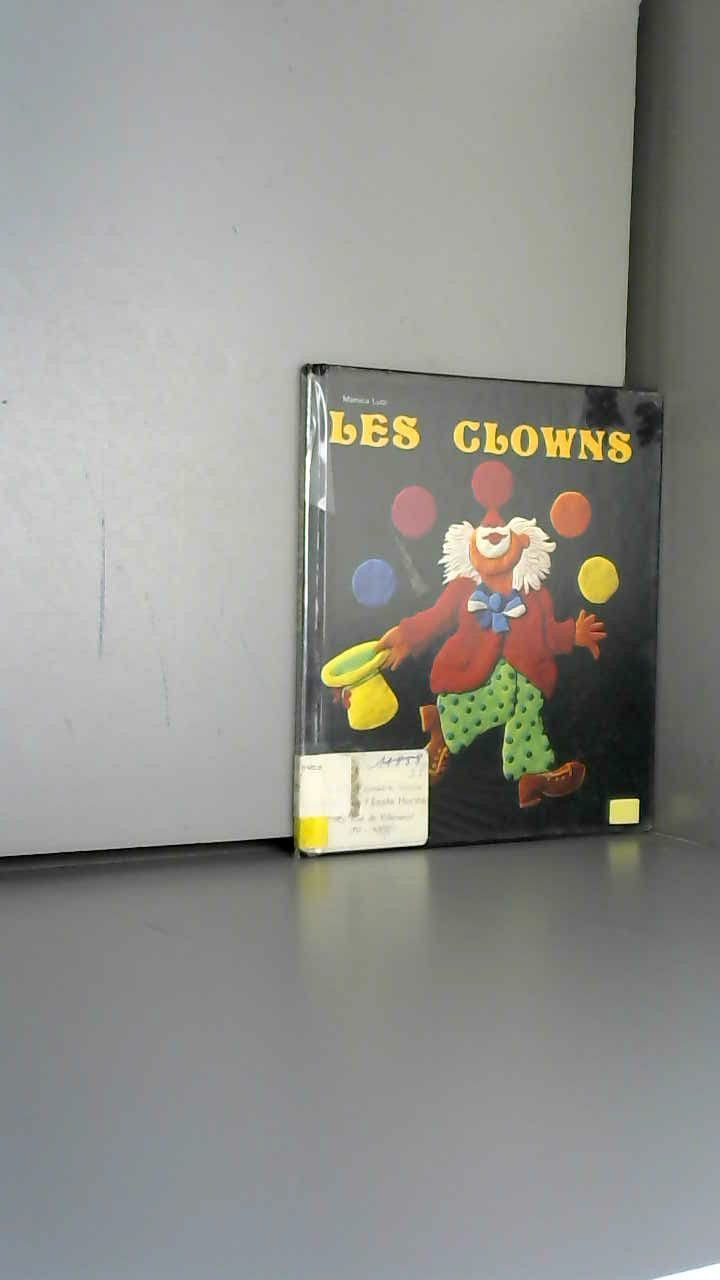book: (260, 340, 716, 924)
